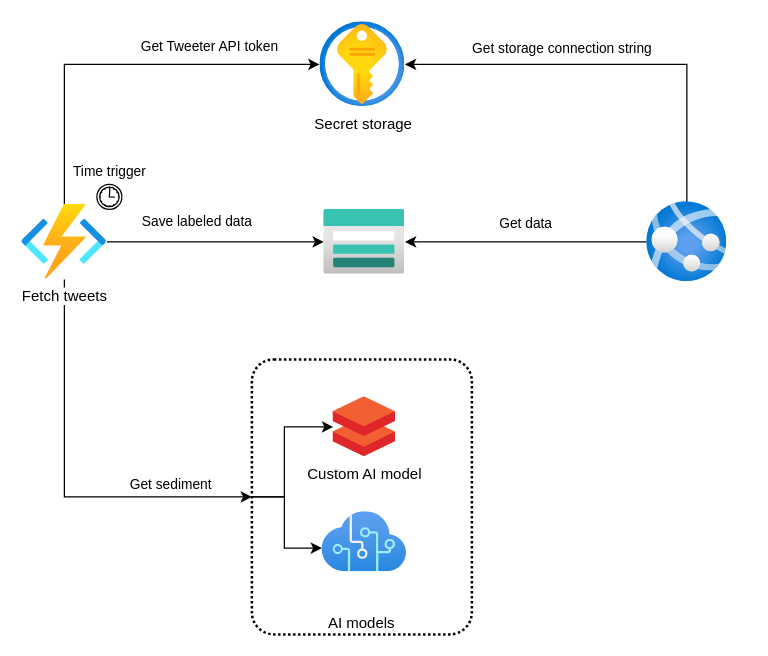
The diagram is 768 pixels wide and 656 high, and some of its shapes have lost their labels. Each missing label, with the box of its shape:
Cognitive Services Language: (321, 511, 406, 571)
Data presentation: (646, 201, 726, 281)
Table storage: (323, 209, 404, 274)
